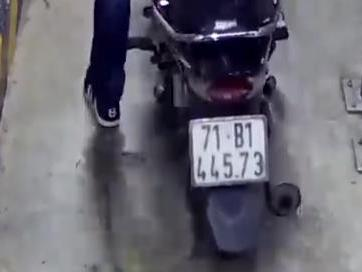num_plate: (189, 114, 271, 187)
